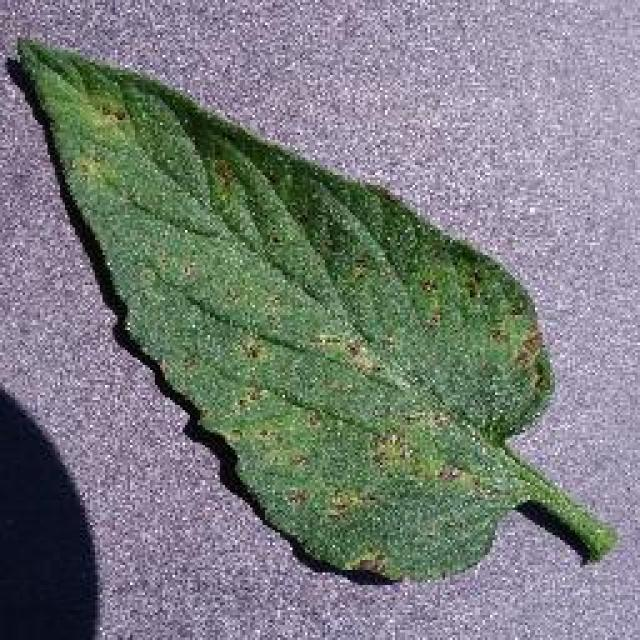Tomato Septoria spot leaf: (21, 28, 550, 582)
